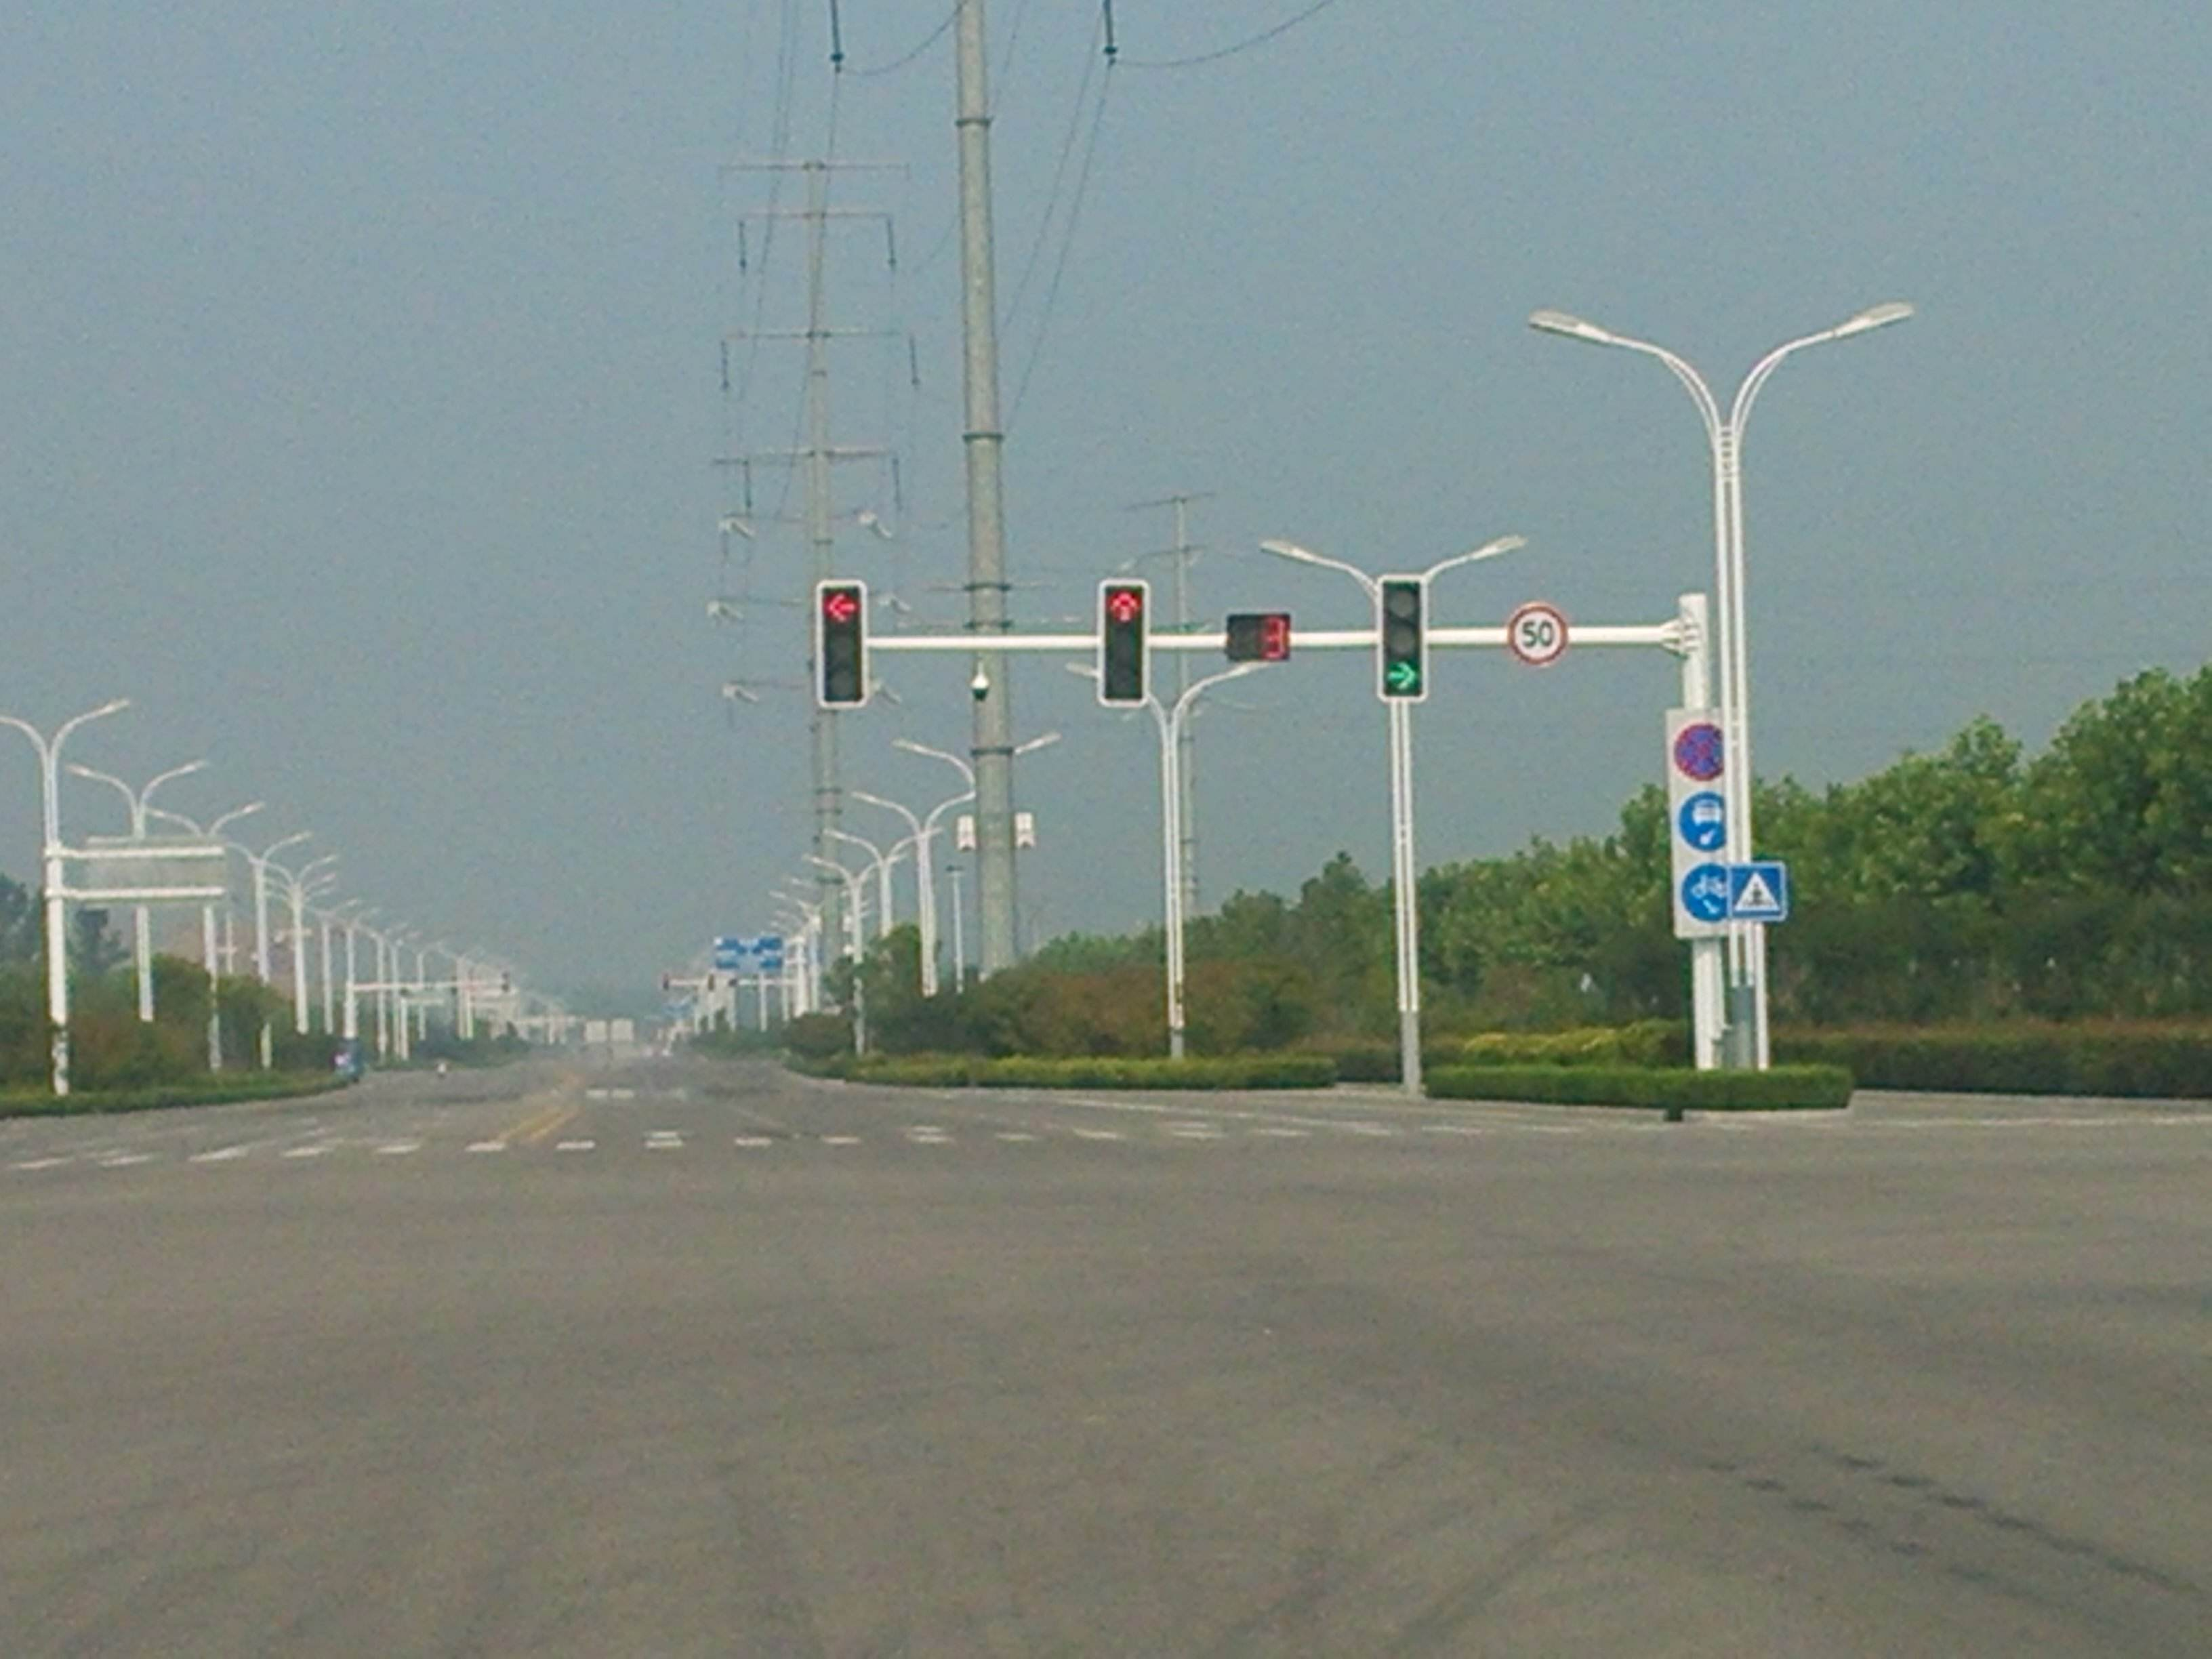green: (1371, 572, 1435, 716)
red: (810, 575, 873, 723), (1096, 572, 1157, 714)
